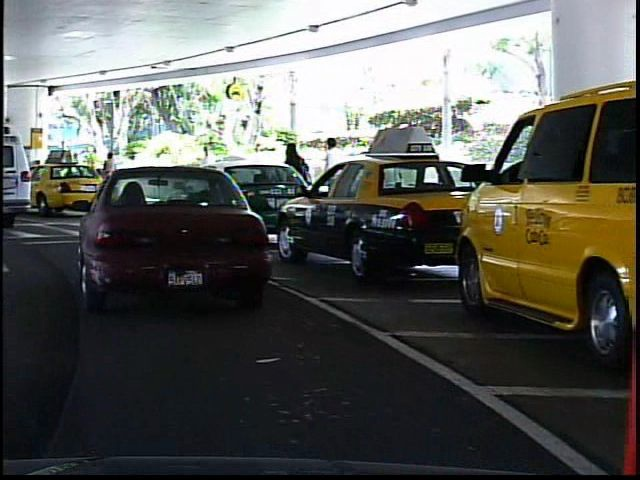person: (276, 135, 311, 227), (317, 131, 349, 219), (193, 140, 220, 204), (95, 147, 120, 197)
